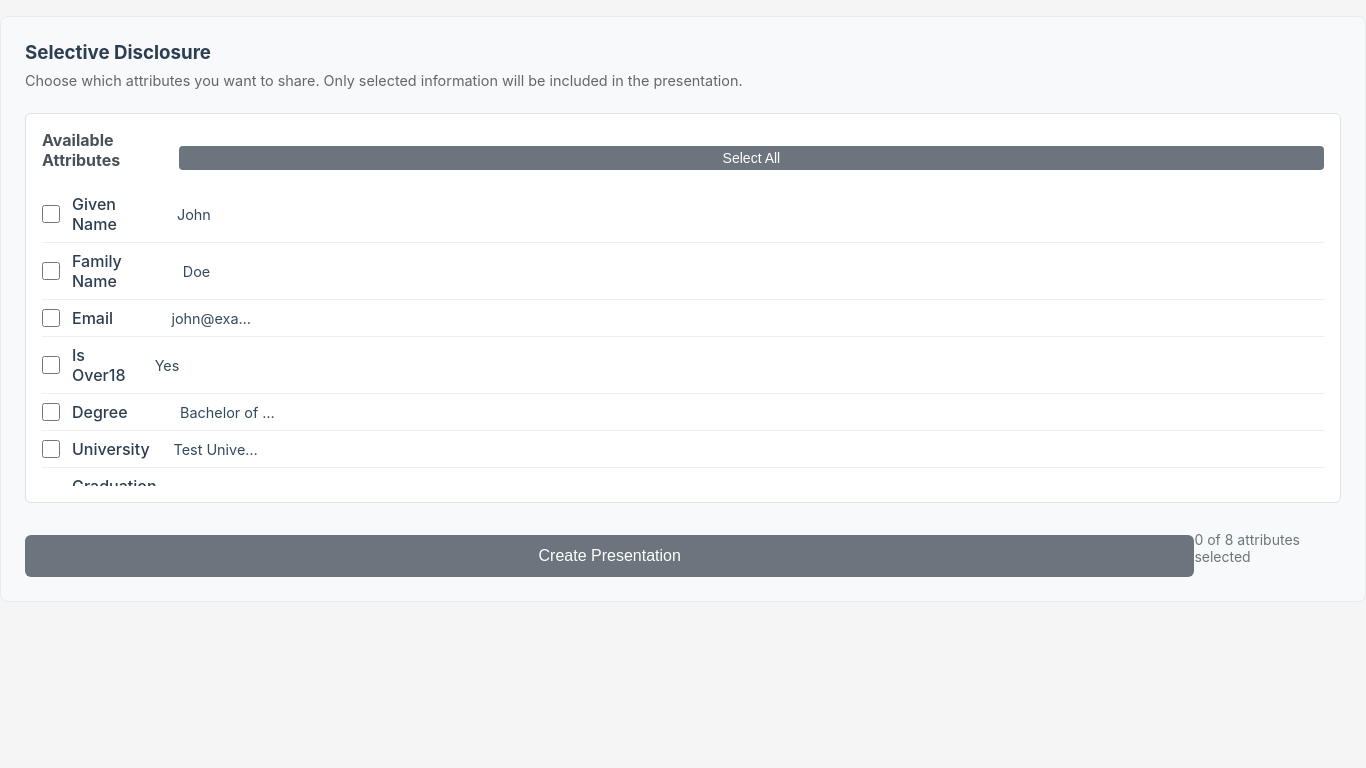
Scenario: SelectiveDisclosure › should handle select all functionality
The width and height of the screenshot is (1366, 768).
Step 1. Click the button "Select All" → (751, 158), box [179,146,1324,170]
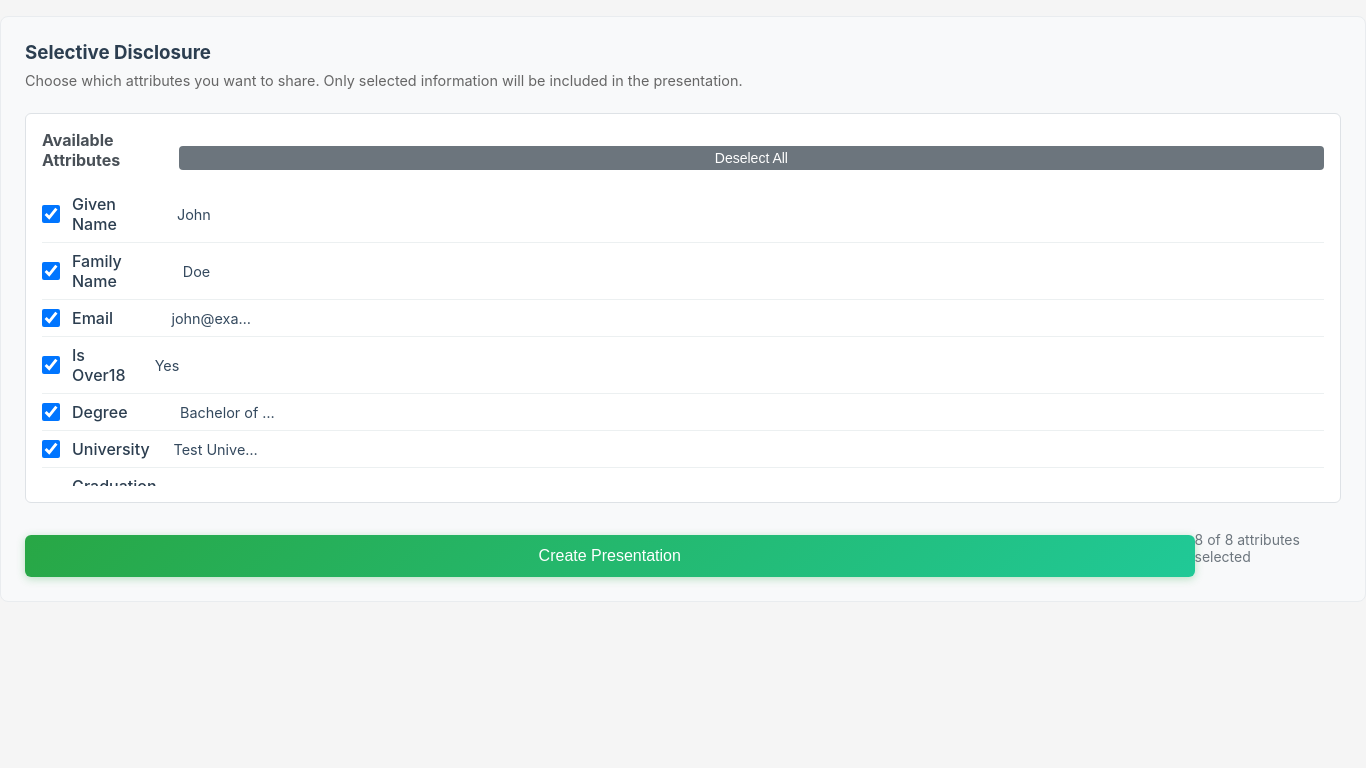
Now the checkbox labelled "Family Name Doe" is checked, box [42,262,60,280]
Now the checkbox labelled "Email john@example.com" is checked, box [42,309,60,327]
Now the checkbox labelled "Is Over18 Yes" is checked, box [42,356,60,374]
// Click deselect all
Step 2. Click the button "Deselect All" → (751, 158), box [179,146,1324,170]
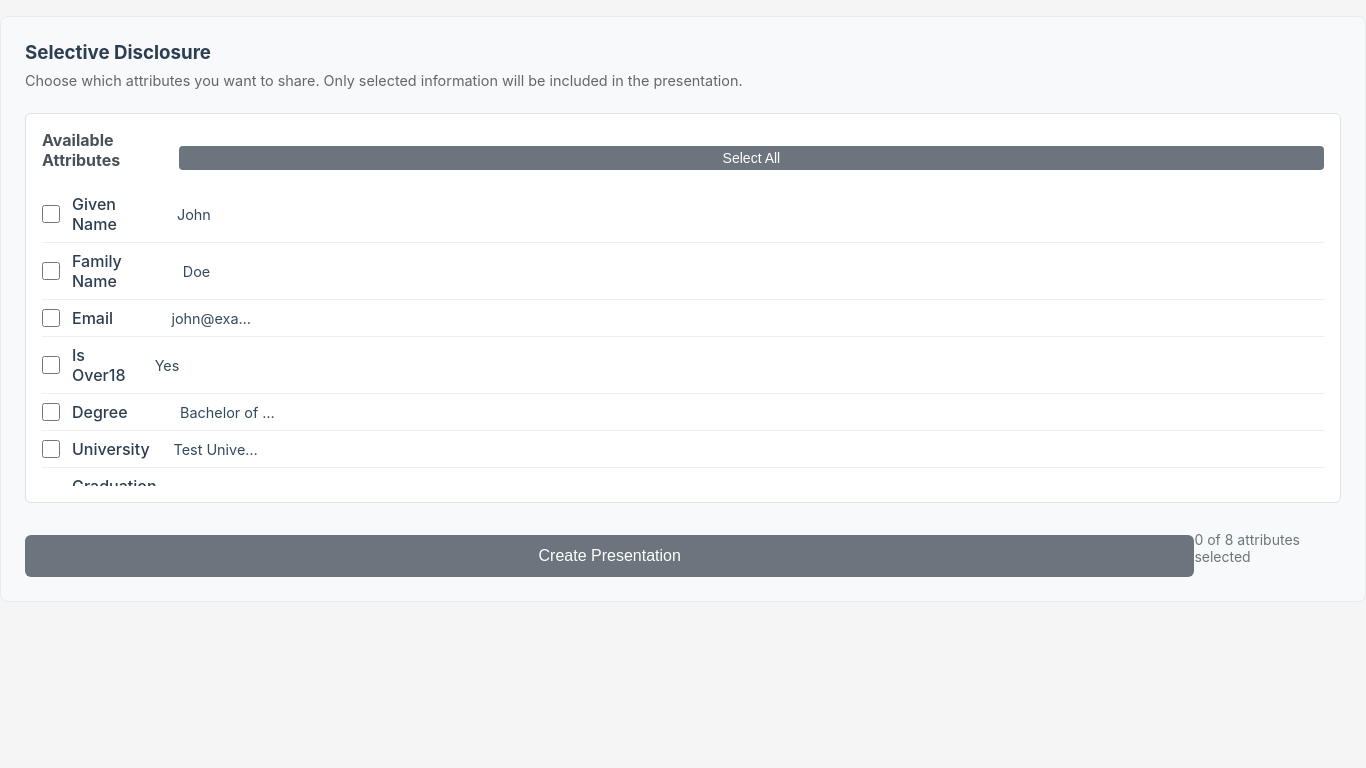
Now the checkbox labelled "Family Name Doe" is not checked, box [42,262,60,280]
Now the checkbox labelled "Email john@example.com" is not checked, box [42,309,60,327]
Now the checkbox labelled "Is Over18 Yes" is not checked, box [42,356,60,374]
